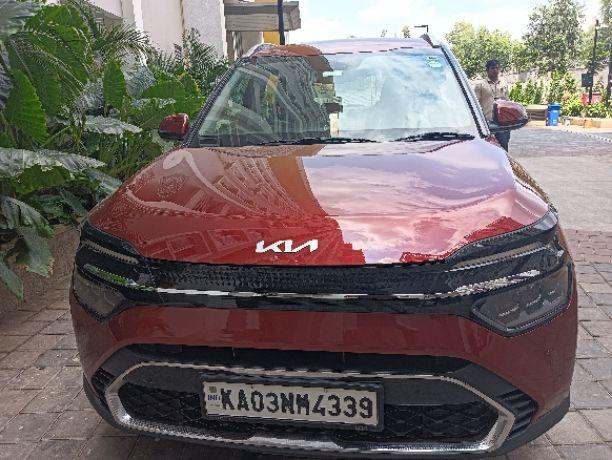license_plate: (200, 379, 384, 430)
